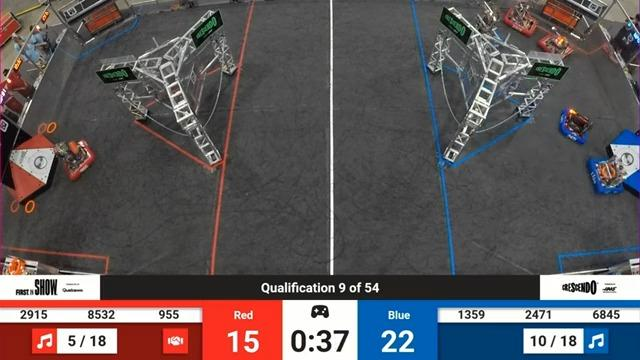robot: (47, 138, 101, 181), (585, 149, 628, 199), (553, 105, 600, 149), (538, 22, 577, 62), (507, 0, 544, 38), (470, 0, 504, 34)
